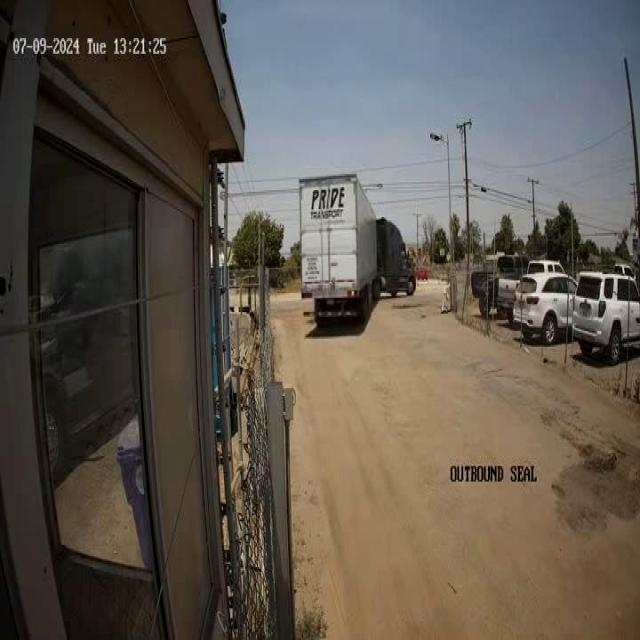TRUCK_CONTAINER: (298, 172, 418, 325)
